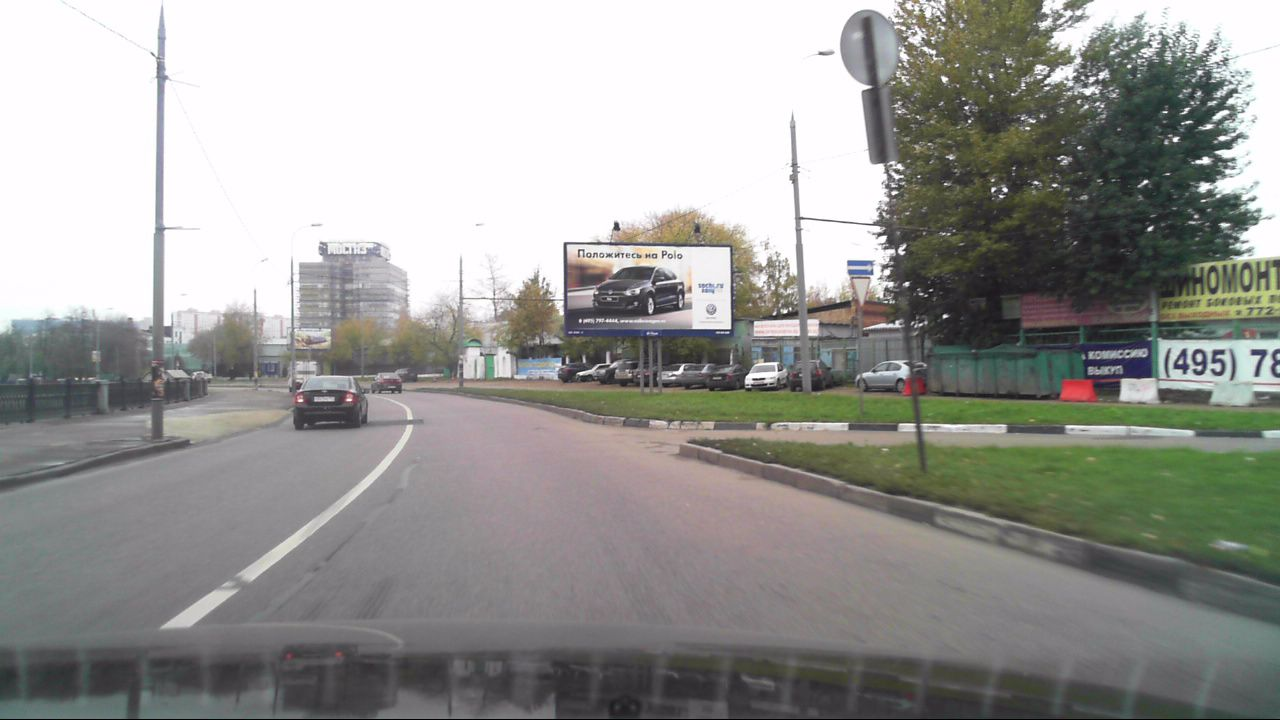One-Way Traffic: (846, 260, 874, 276)
